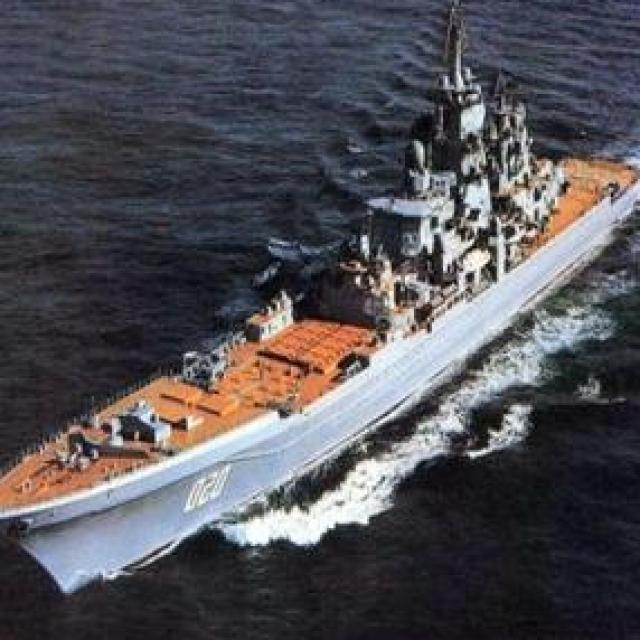navalvessels: (0, 0, 640, 589)
